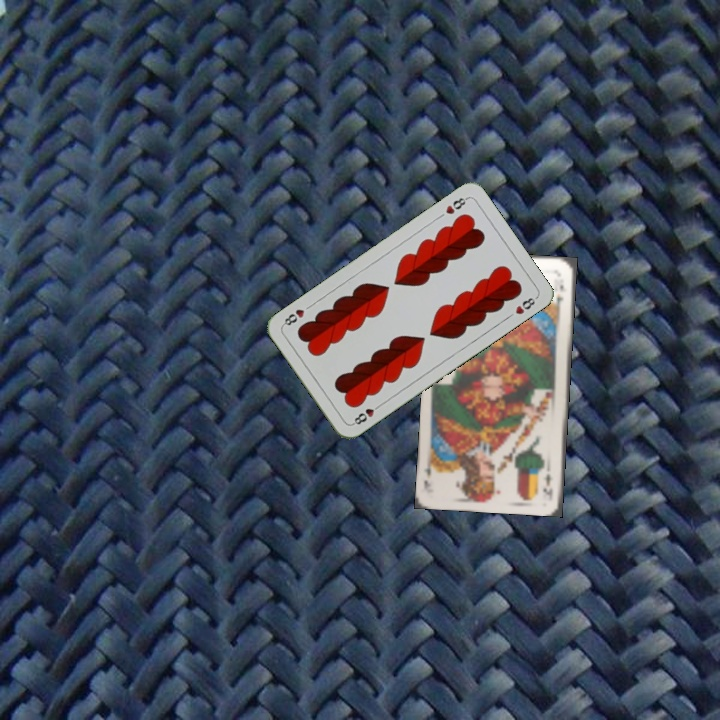EK: (539, 470, 556, 500)
H8: (348, 400, 384, 427), (441, 193, 470, 217)
